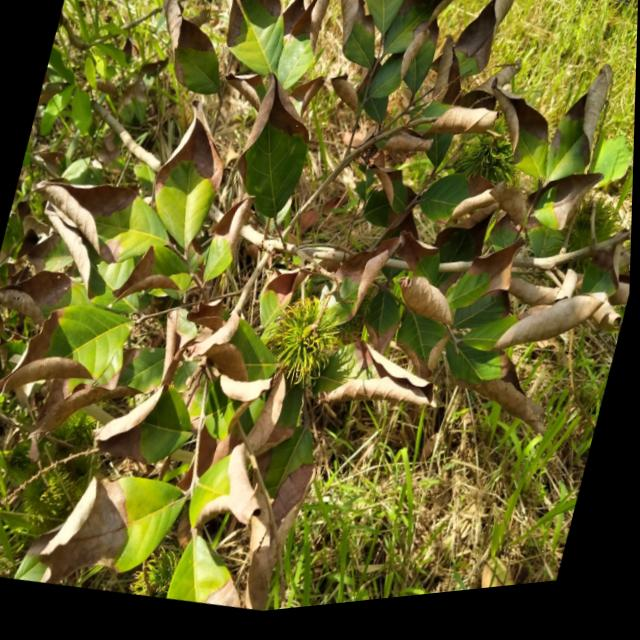Leaf Blight: (302, 169, 619, 500)
